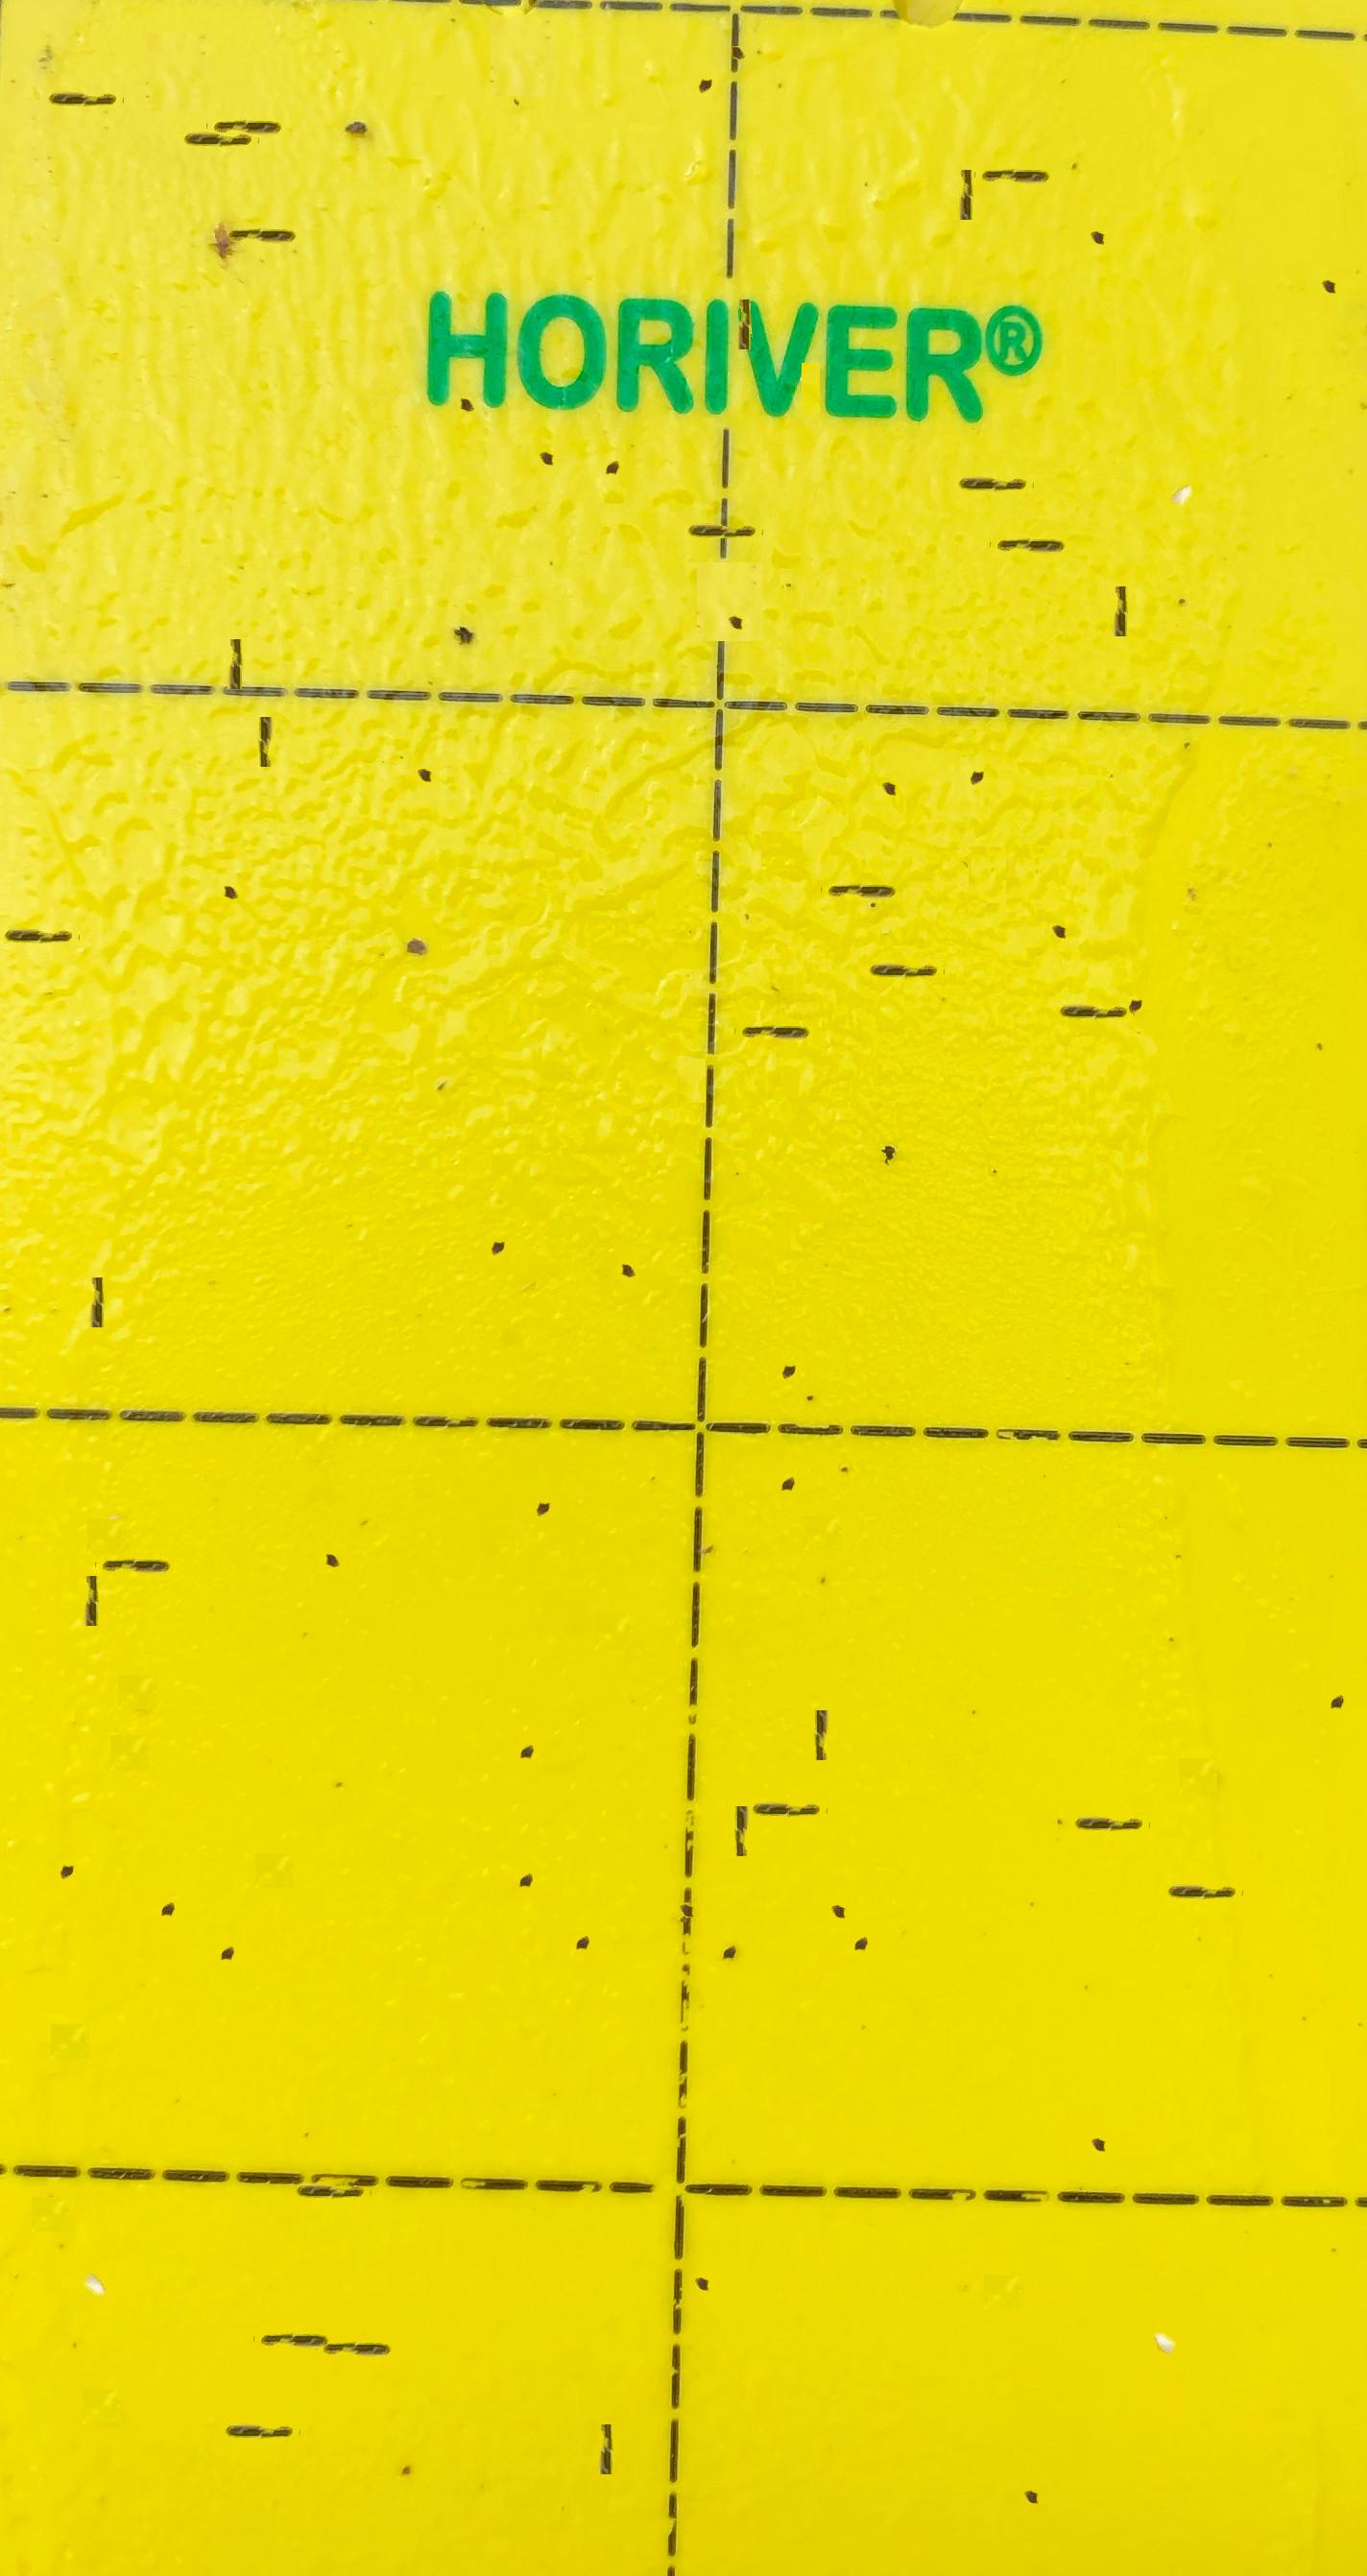white_fly: (73, 2218, 116, 2263), (1144, 2280, 1186, 2322), (1161, 433, 1203, 475)
